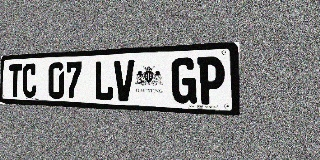0: (48, 62, 65, 99)
7: (65, 62, 82, 100)
C: (22, 63, 37, 98)
G: (171, 57, 197, 104)
L: (94, 60, 114, 101)
P: (197, 56, 225, 105)
T: (9, 64, 23, 97)
V: (114, 60, 135, 102)
